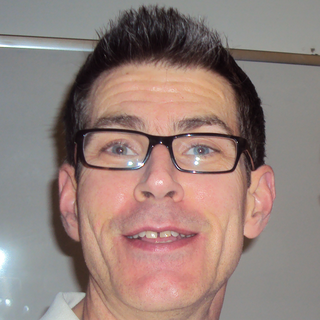eye: (97, 134, 140, 167), (179, 141, 226, 162)
